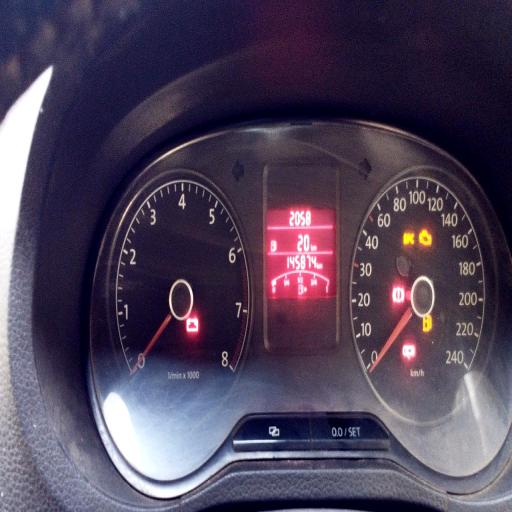brake_system_fault: (392, 286, 405, 303)
check_engine: (420, 230, 432, 246)
tachometer: (107, 168, 254, 410)
vehicle_charging: (186, 318, 198, 332)
